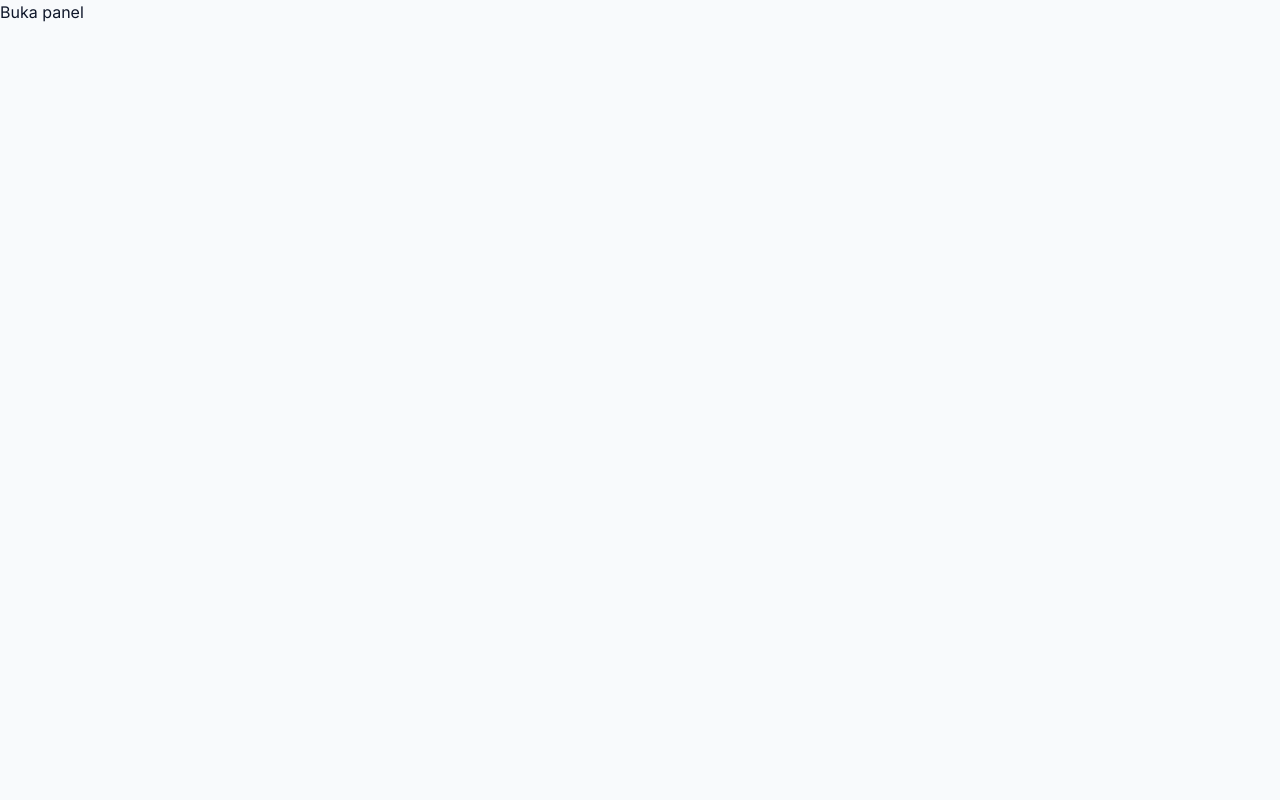
Test: Sheet › opens a side panel and closes from the close button
This screenshot has width=1280, height=800.
Click the button "Buka panel".
click(42, 12)  # box [0,0,84,24]
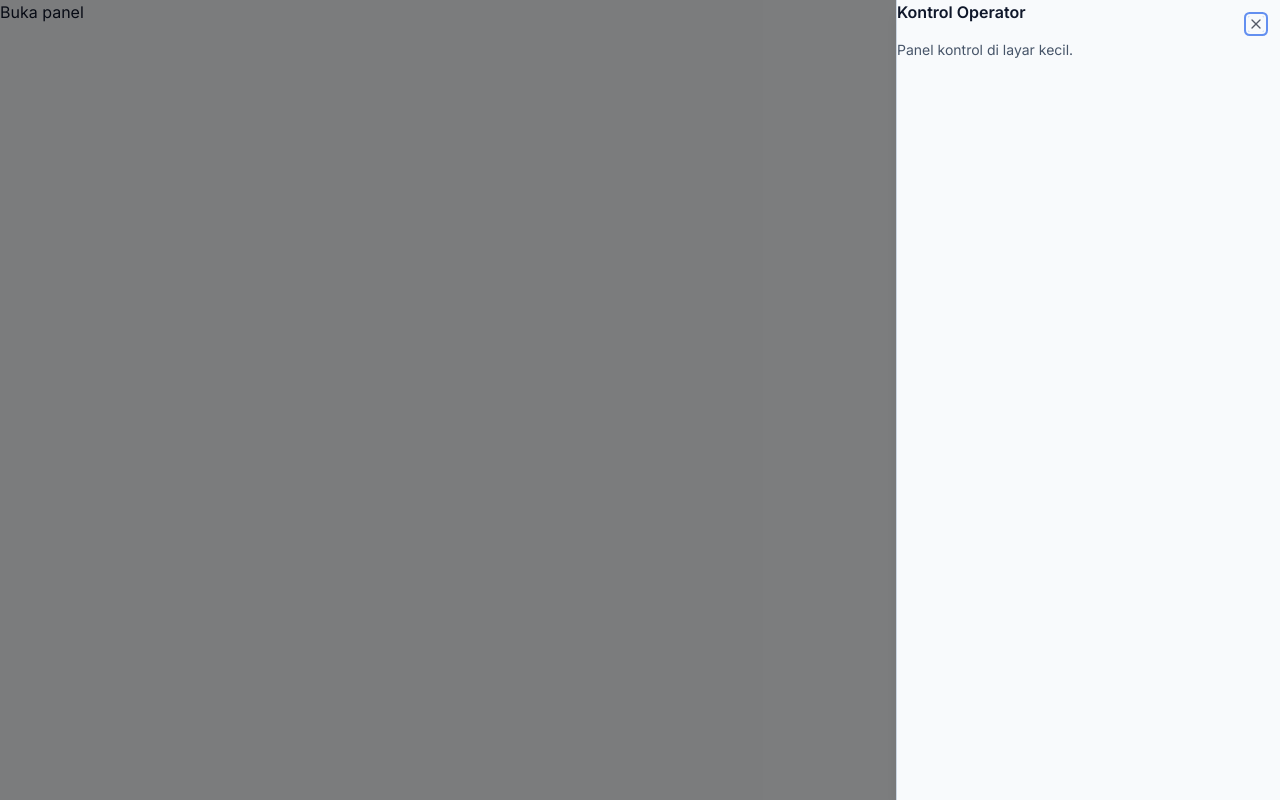
Check: the dialog is shown, box [896,0,1279,799]
Check: the heading "Kontrol Operator" is shown, box [897,2,1026,22]
Click the button named "close".
click(1256, 24)  # box [1248,16,1264,32]
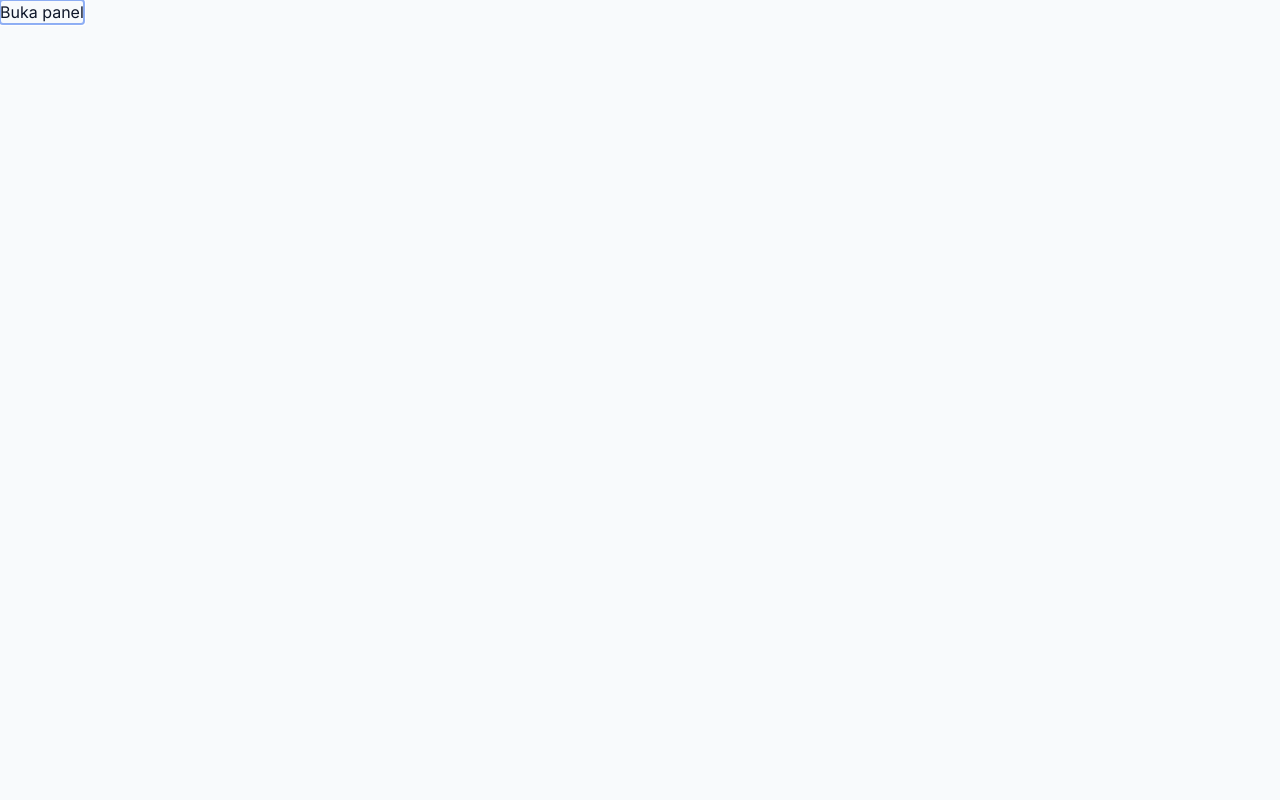
Check: the dialog is gone
